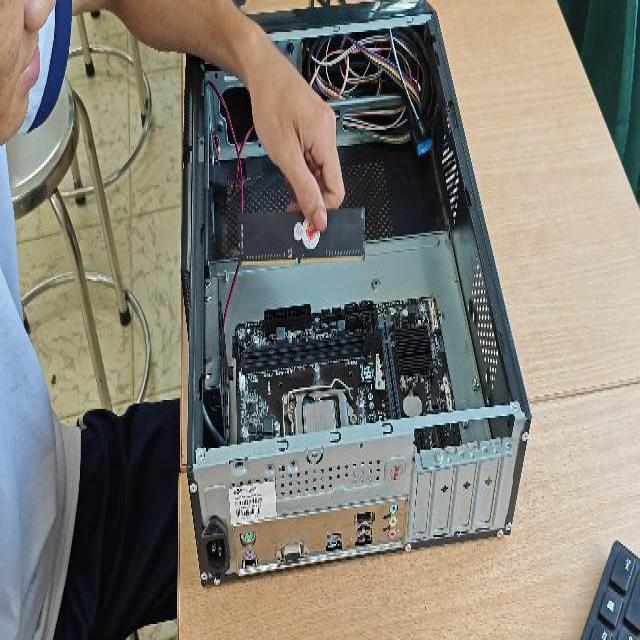CPU: (302, 398, 336, 434)
Mainboard: (232, 292, 462, 448)
RAM: (236, 204, 364, 266)
